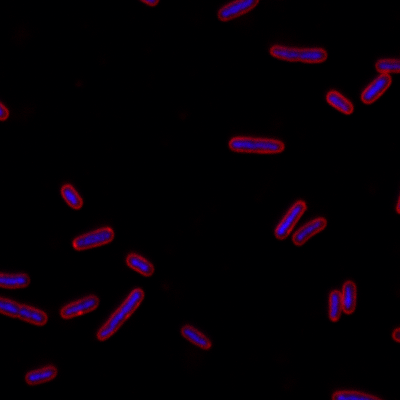Rifampicin: (94, 287, 146, 343), (272, 198, 308, 241), (289, 214, 331, 248), (266, 41, 328, 64), (68, 225, 115, 252), (359, 71, 393, 106), (59, 292, 100, 320), (227, 136, 286, 155), (177, 322, 212, 351), (124, 251, 156, 278), (23, 363, 59, 387), (325, 88, 355, 116), (324, 287, 344, 324), (59, 183, 84, 210), (342, 278, 359, 315)
